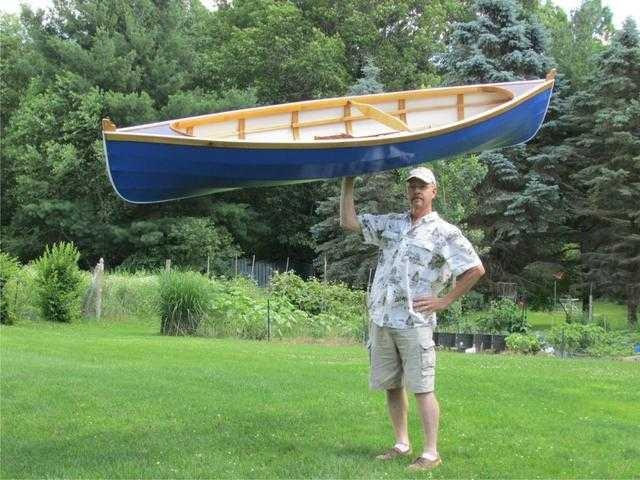kayak: (99, 78, 555, 208)
